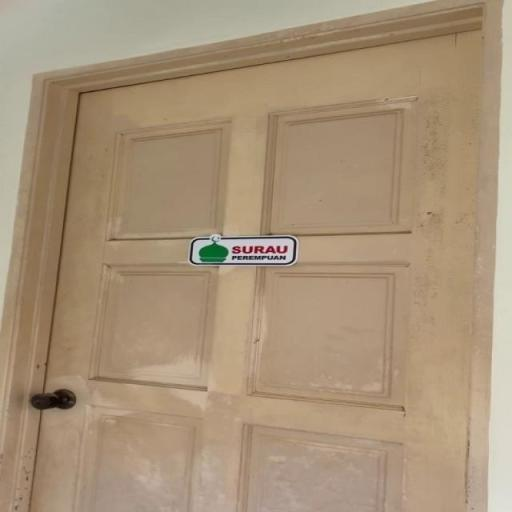door: (10, 28, 484, 510)
